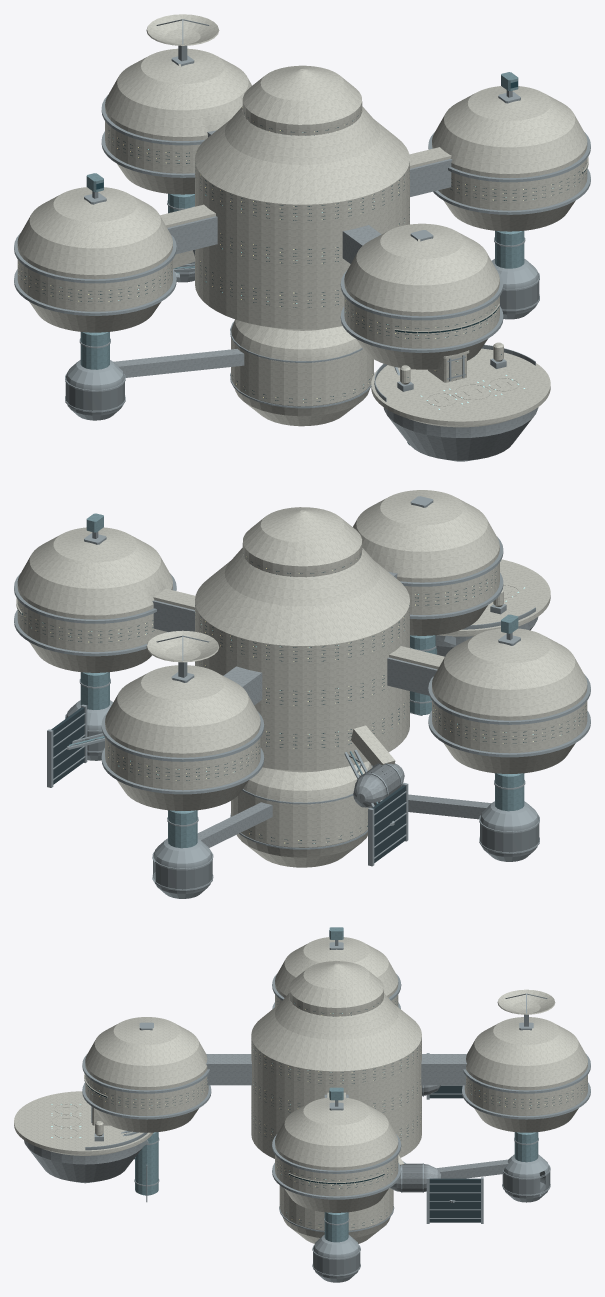
Rendered from nacre.glb.
3 renders of one model, top to bottom at view 1: azimuth 30°, elevation 25°; view 2: azimuth 150°, elevation 25°; view 3: azimuth 270°, elevation 25°, orthographic. The views are drawn at different scales.
Visible parts, largest first — view 1: nacre / armor, nacre / metal, nacre / hull, nacre / copper, nacre / glass; view 2: nacre / armor, nacre / metal, nacre / hull, nacre / copper, nacre / radiator, nacre / glass; view 3: nacre / armor, nacre / metal, nacre / hull, nacre / copper, nacre / radiator, nacre / glass.
Part boxes in pixels (x1,y1,x2,y2): nacre / armor: (17,14,588,427); nacre / metal: (14,19,590,420); nacre / hull: (113,130,538,461); nacre / copper: (80,72,524,445); nacre / glass: (21,81,587,402); nacre / armor: (16,490,587,867); nacre / metal: (14,496,590,898); nacre / hull: (152,571,538,847); nacre / copper: (69,513,524,848); nacre / radiator: (51,707,405,862); nacre / glass: (17,554,586,843); nacre / armor: (14,937,587,1243); nacre / metal: (82,940,590,1282); nacre / hull: (24,1054,508,1192); nacre / copper: (134,927,538,1242); nacre / radiator: (429,1086,480,1222); nacre / glass: (85,930,584,1227).
Size of the model in its own units: 155 by 92 by 176.
9 materials, 3 textured.
